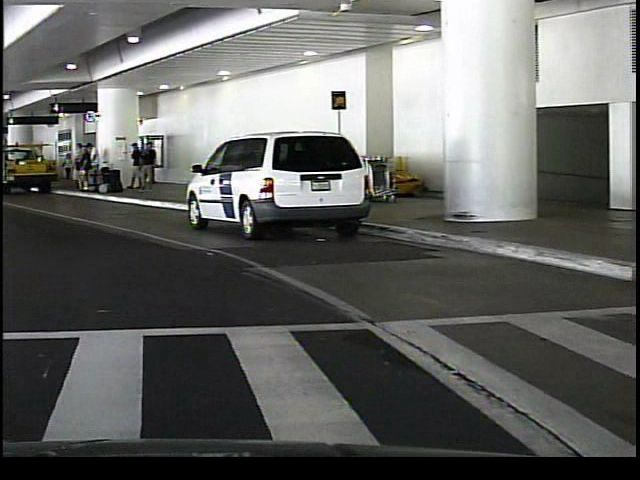person: (140, 139, 157, 191), (68, 140, 83, 191)
